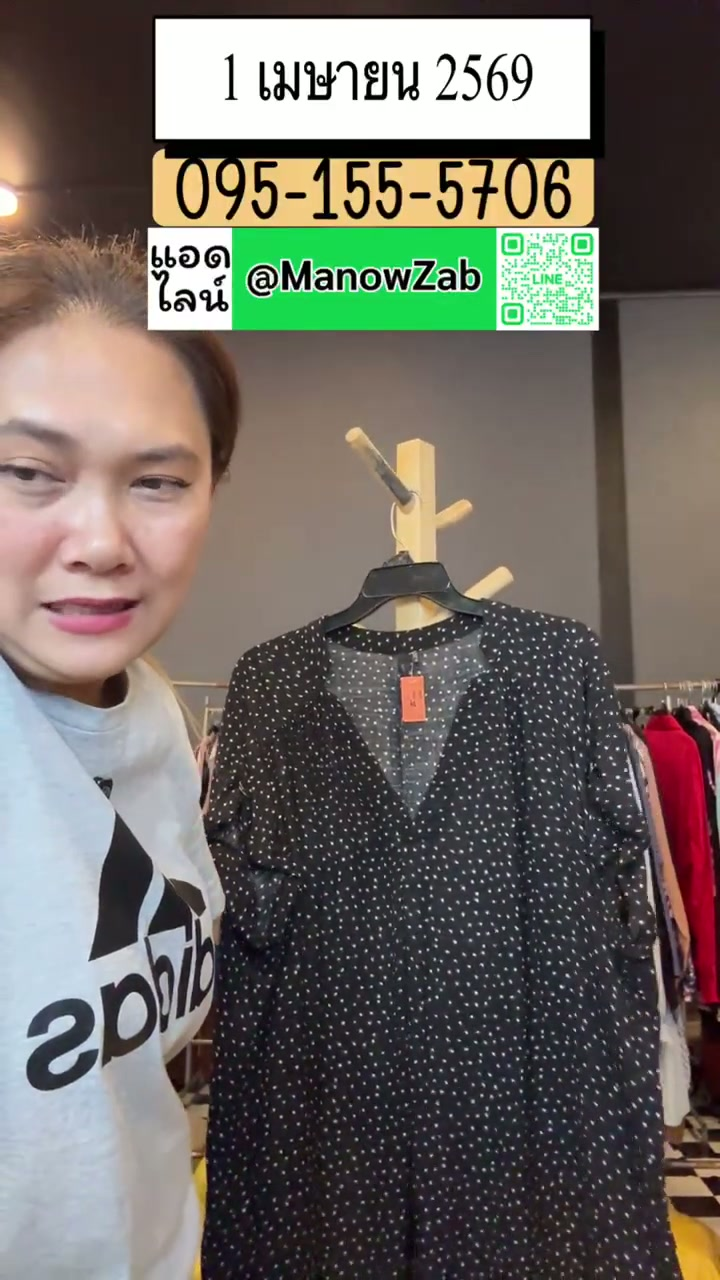display_shirt: (202, 600, 679, 1279)
